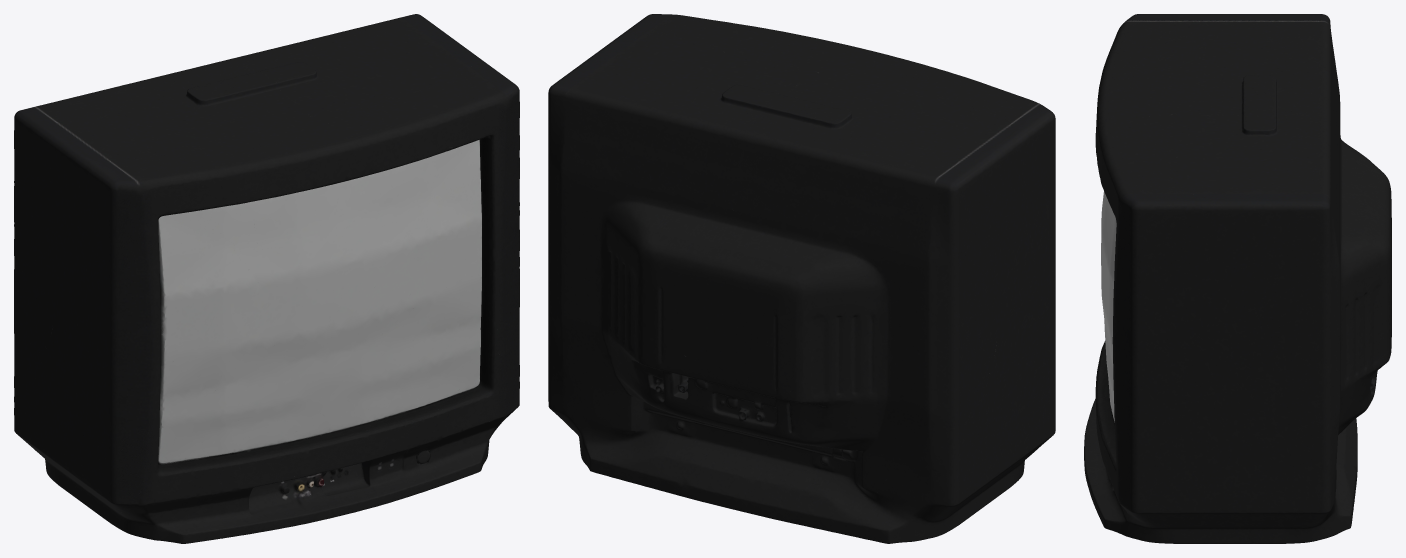
Rendered from tele-vieja.glb.
3 views of the same model, side by side, from view 1: azimuth 30°, elevation 25°; view 2: azimuth 150°, elevation 25°; view 3: azimuth 270°, elevation 25° (orthographic). The views are drawn at different scales.
Size of the model in its own units: 1.9 by 1.64 by 1.28.
Materials: 1 (1 with a texture image).
